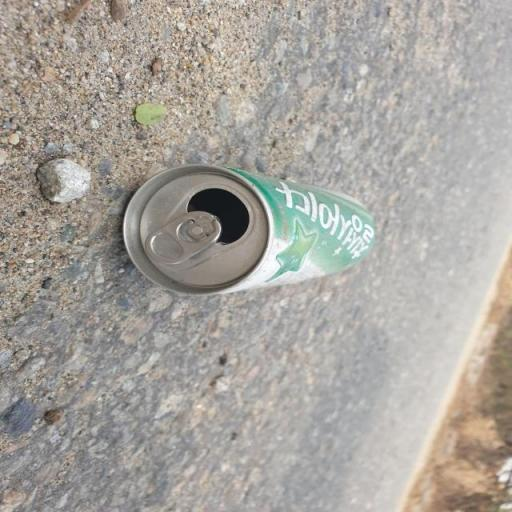metal: (74, 134, 436, 329)
